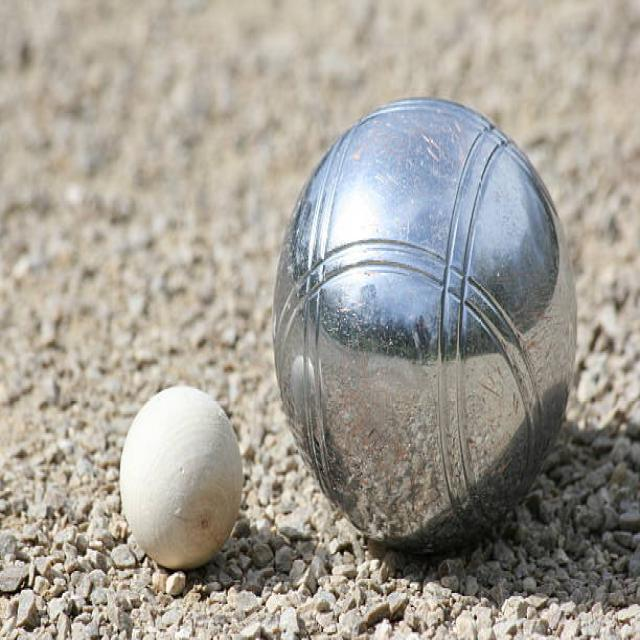hatball: (109, 372, 252, 582)
petanque: (260, 75, 596, 579)
